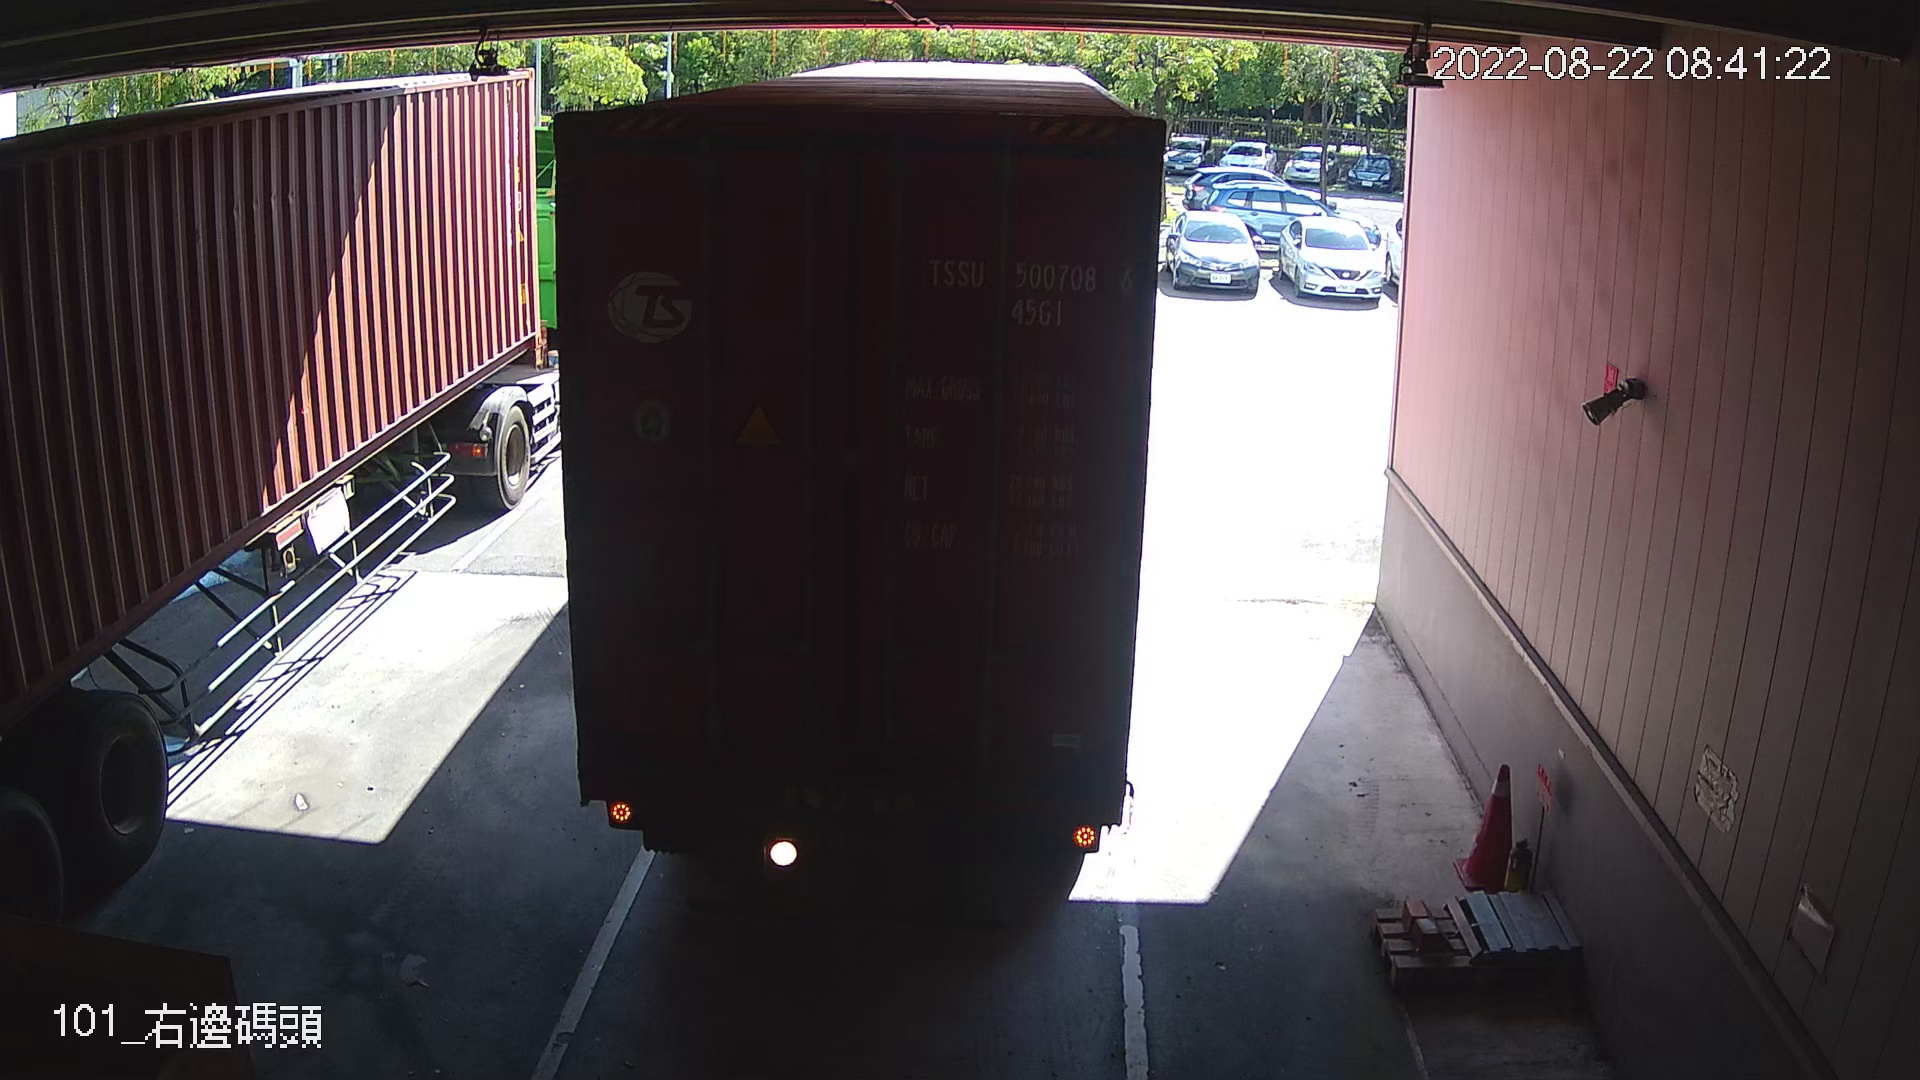container: (916, 243, 1142, 334)
